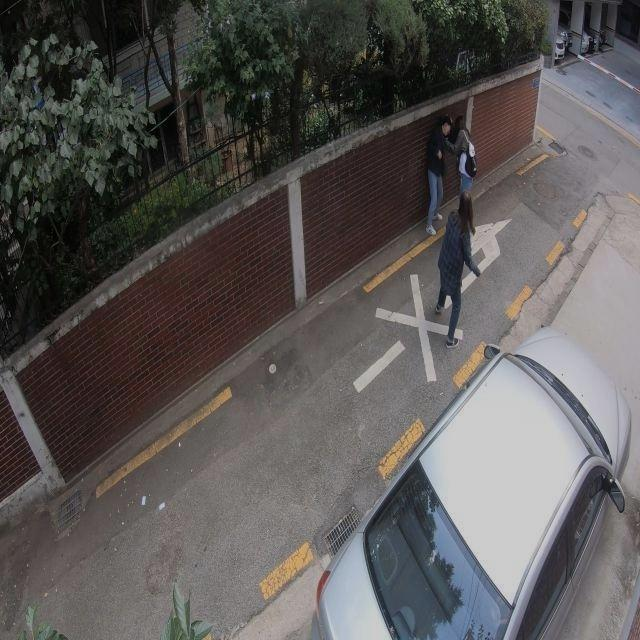fight: (420, 109, 476, 225)
non-fight: (424, 200, 485, 340)
